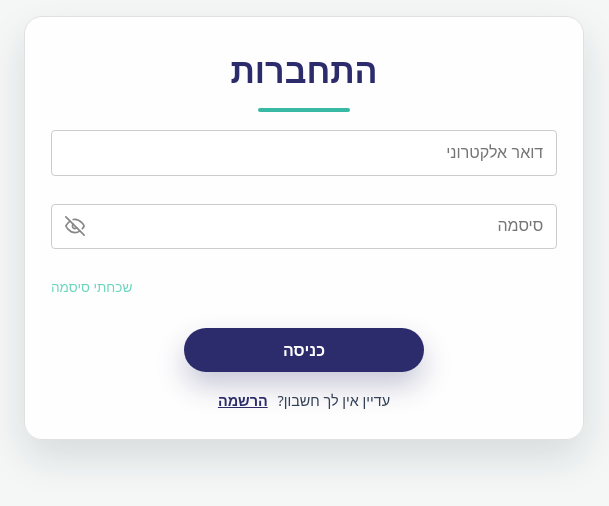
Validation › shows error for empty password
Type "a@b.com" into the field with placeholder "דואר אלקטרוני" at (304, 153), box [51,130,557,176]
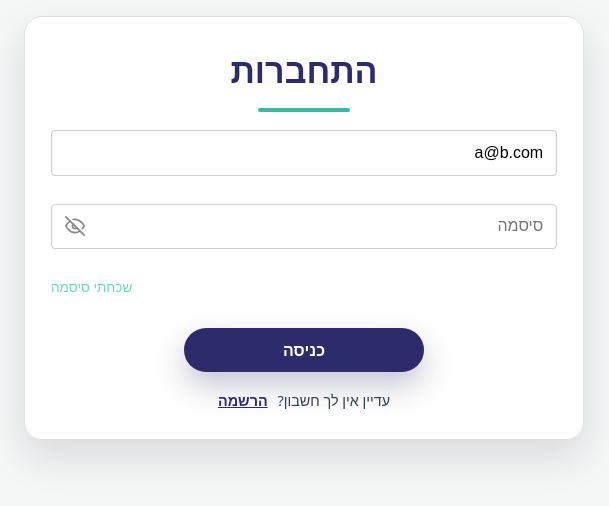
Click the button "כניסה" at (304, 350), box [184,328,424,372]
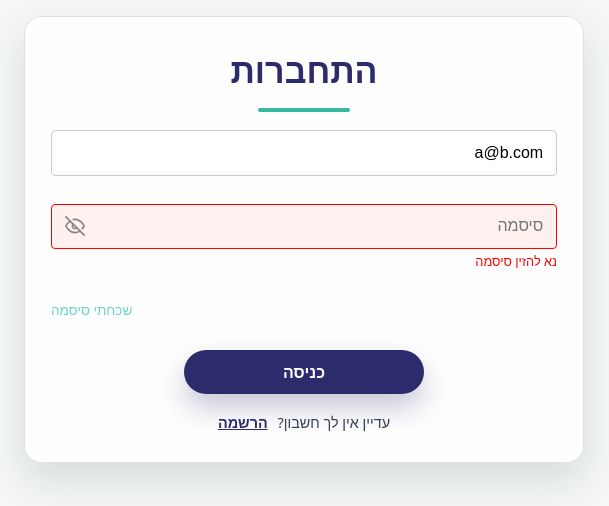
Now the text "נא להזין סיסמה" is shown, box [475,252,557,270]
